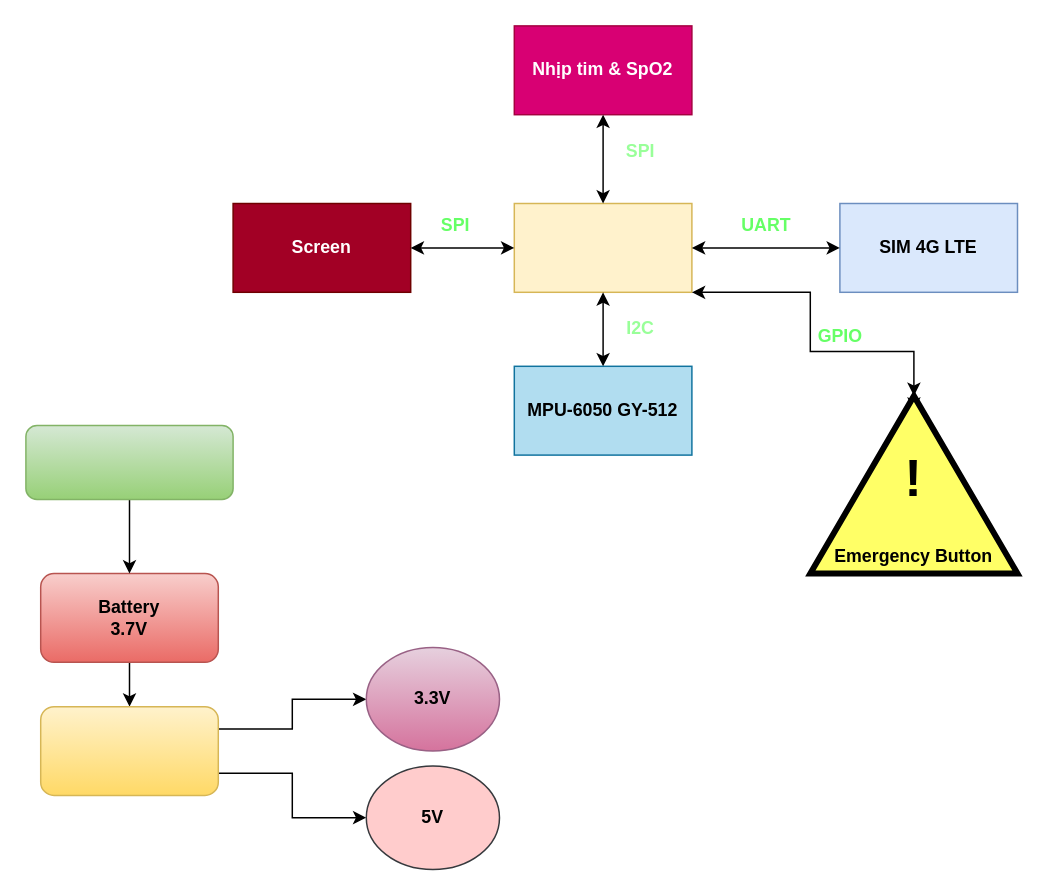
Image size: 1046x895. Some labels were removed from this diagram. Each missing label, with the centre of its shape:
"BUCK & BOOST" belongs at [128,750].
"Charger(USB TypeC)" belongs at [128,462].
"STM32F103C8T6" belongs at [602,247].
